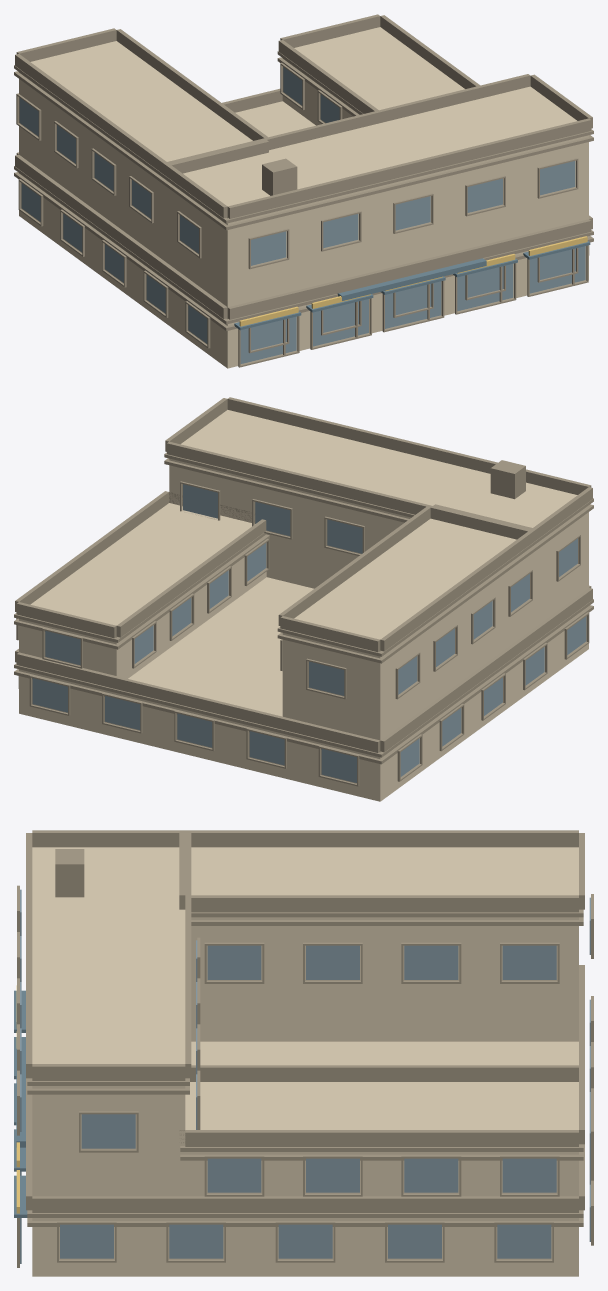
File: commercial_3x3_court.glb
3 renders of one model, top to bottom at view 1: azimuth 30°, elevation 25°; view 2: azimuth 150°, elevation 25°; view 3: azimuth 270°, elevation 25°, orthographic. The views are drawn at different scales.
Parts seen in each view (by area): view 1: commercial_3x3_court_0; view 2: commercial_3x3_court_0; view 3: commercial_3x3_court_0.
Boxes of the visible parts, x1,y1,x2,y2 form: commercial_3x3_court_0: (14,14,593,368); commercial_3x3_court_0: (14,397,593,801); commercial_3x3_court_0: (14,830,593,1276).
Size of the model in its own units: 23.74 by 10.5 by 23.87.
